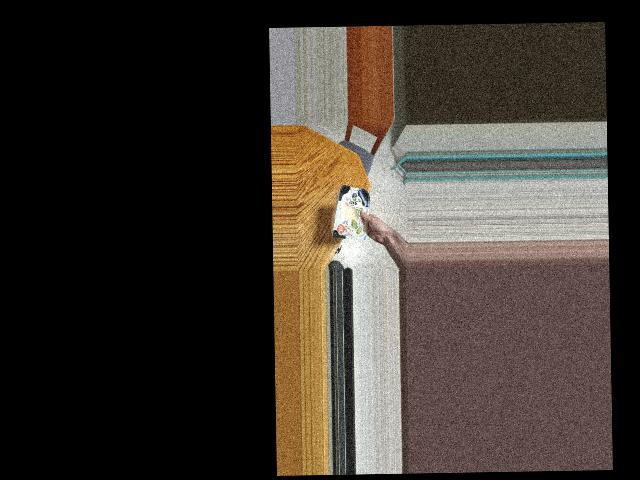cheese: (328, 185, 380, 243)
